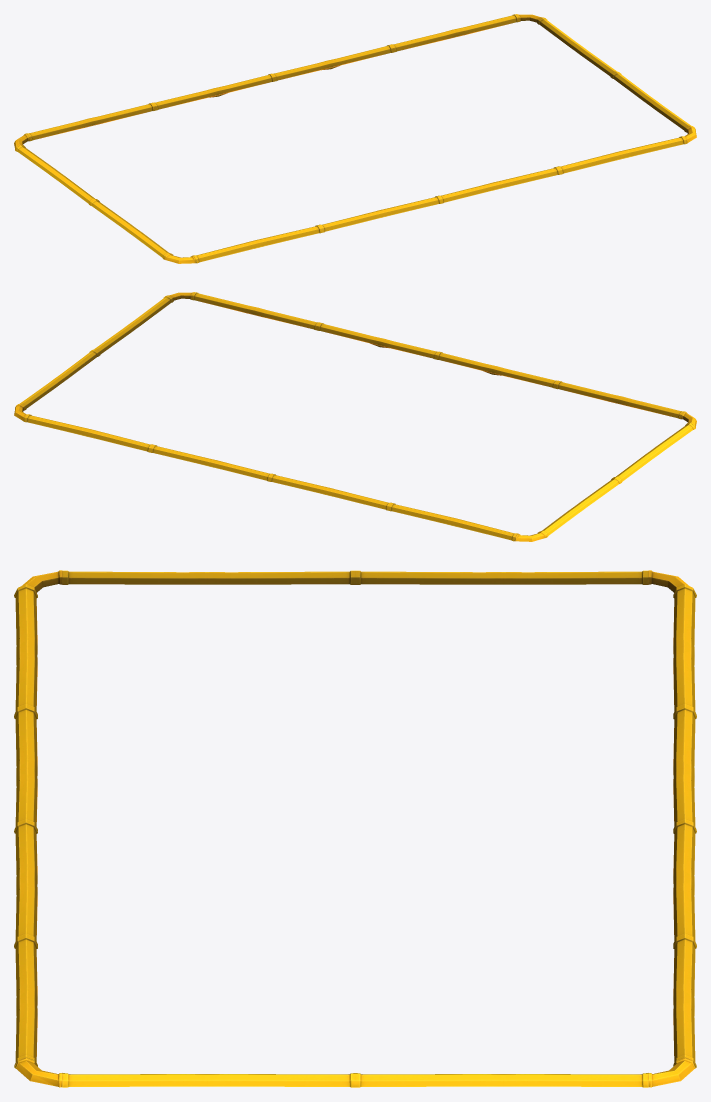
File: obj_pipes_base.gltf
3 views of the same model, one above another, from view 1: azimuth 30°, elevation 25°; view 2: azimuth 150°, elevation 25°; view 3: azimuth 270°, elevation 25° (orthographic). The views are drawn at different scales.
Parts seen in each view (by area): view 1: obj_pipes_base; view 2: obj_pipes_base; view 3: obj_pipes_base.
Part boxes in pixels (<box>): obj_pipes_base: <box>14,14,696,263</box>; obj_pipes_base: <box>14,292,696,541</box>; obj_pipes_base: <box>14,570,696,1087</box>.
Size of what is drawn, in the model's own units: 14.45 by 0.1835 by 8.14.
Materials: 1 (1 with a texture image).
